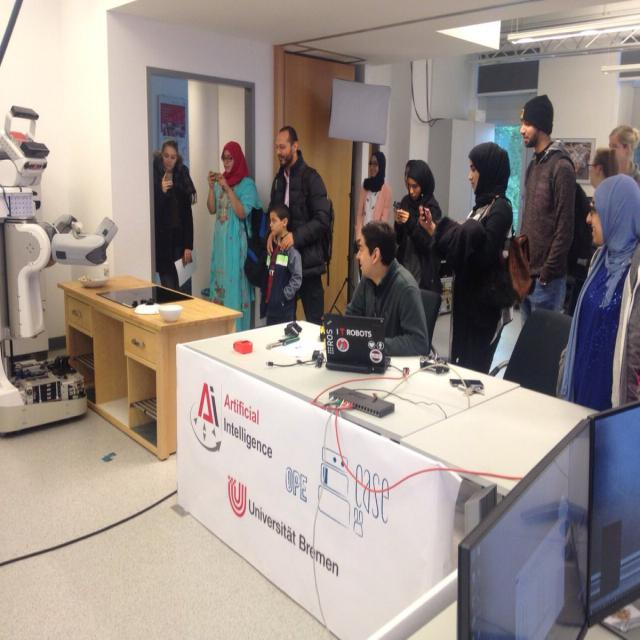body: (418, 140, 515, 374), (555, 173, 639, 414), (262, 124, 336, 328), (518, 94, 578, 336), (205, 138, 271, 332), (342, 218, 431, 357), (152, 139, 198, 299), (393, 159, 444, 296), (259, 200, 303, 328), (354, 149, 392, 281), (587, 125, 640, 189), (392, 159, 415, 223)
